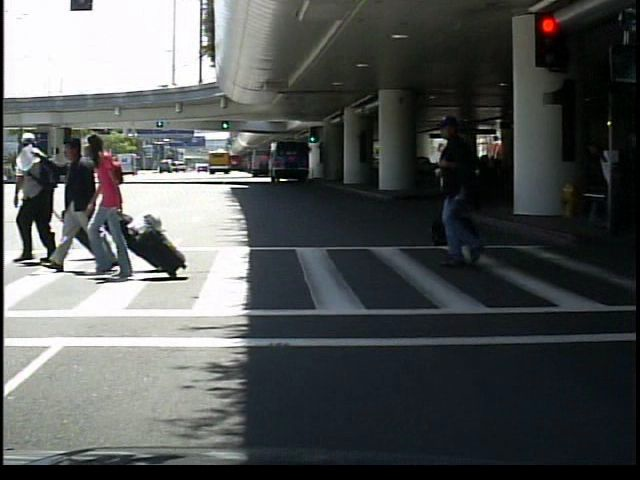person: (425, 113, 508, 268)
